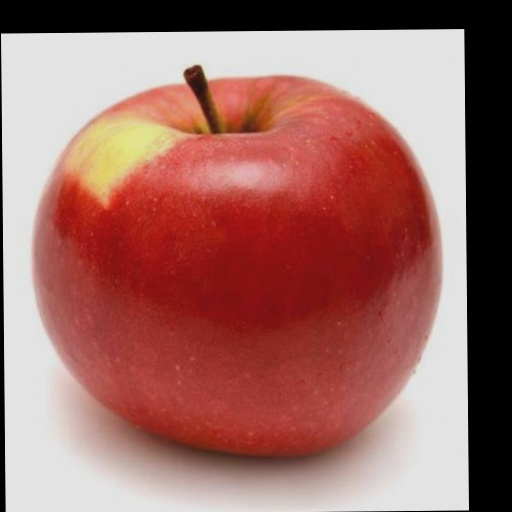fruit: (34, 77, 441, 455)
